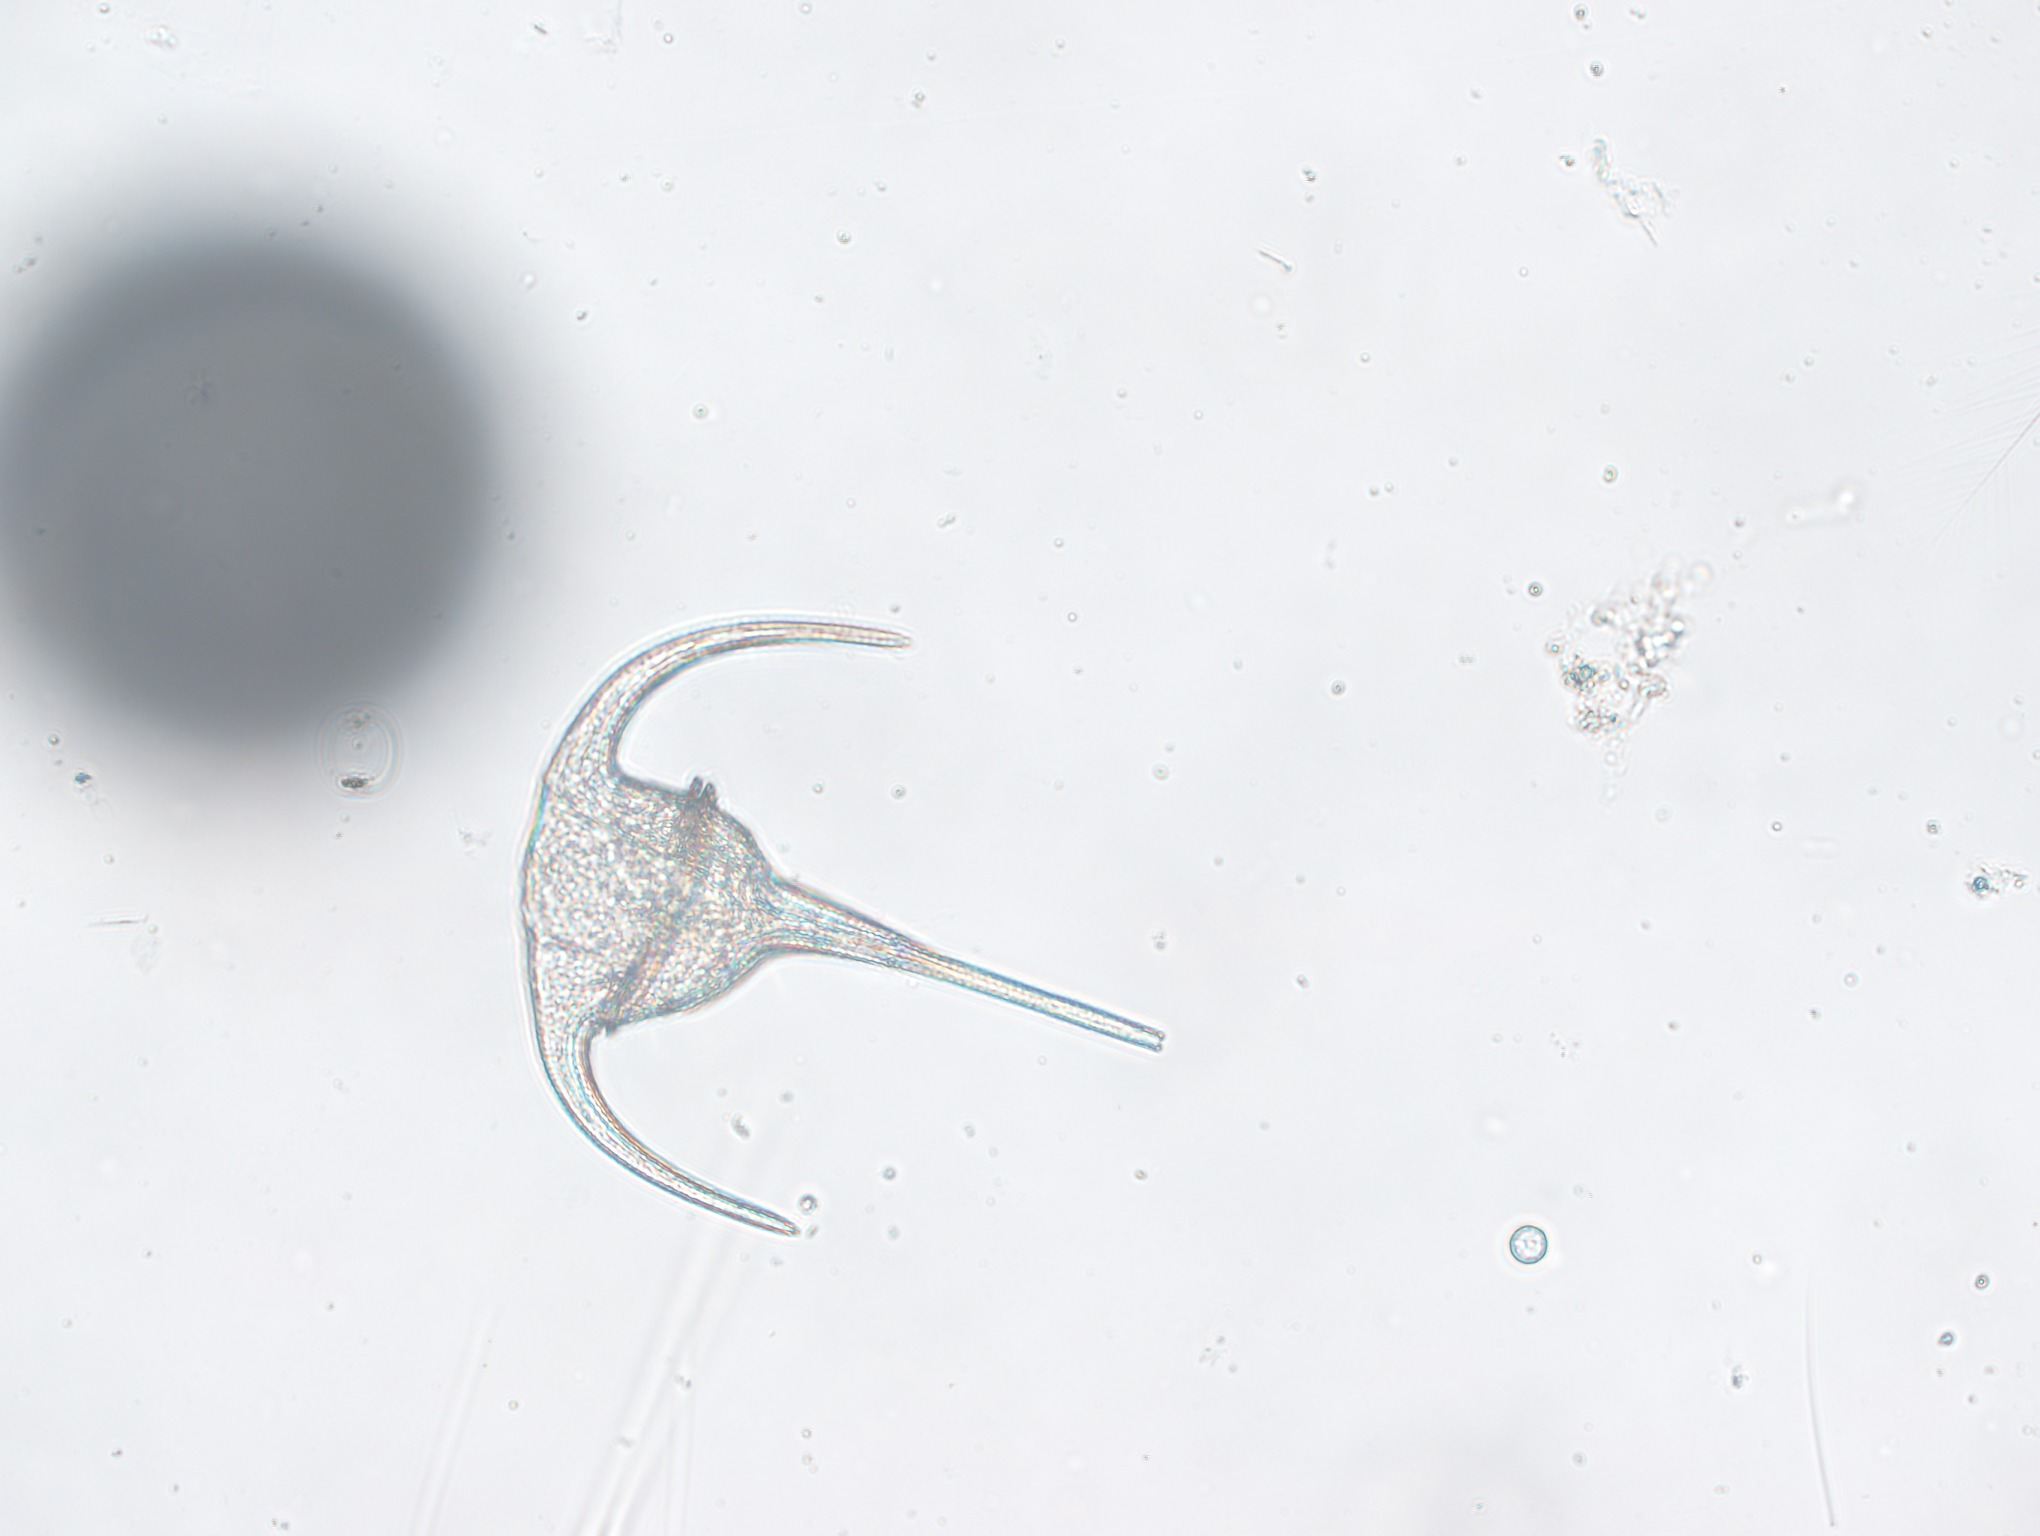ceratium tripos: (506, 611, 1172, 1257)
